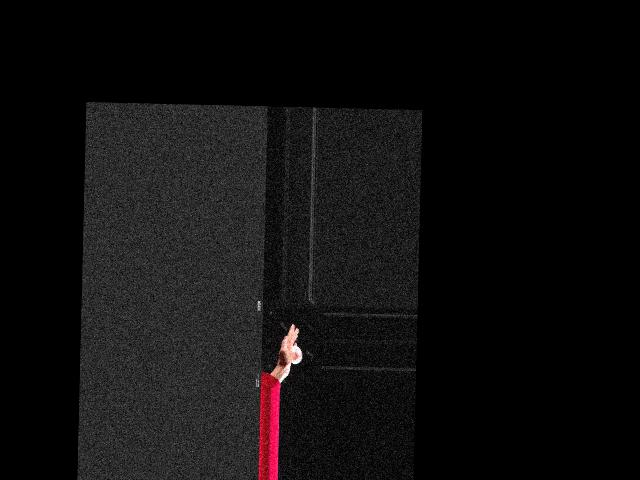egg: (289, 346, 302, 364)
